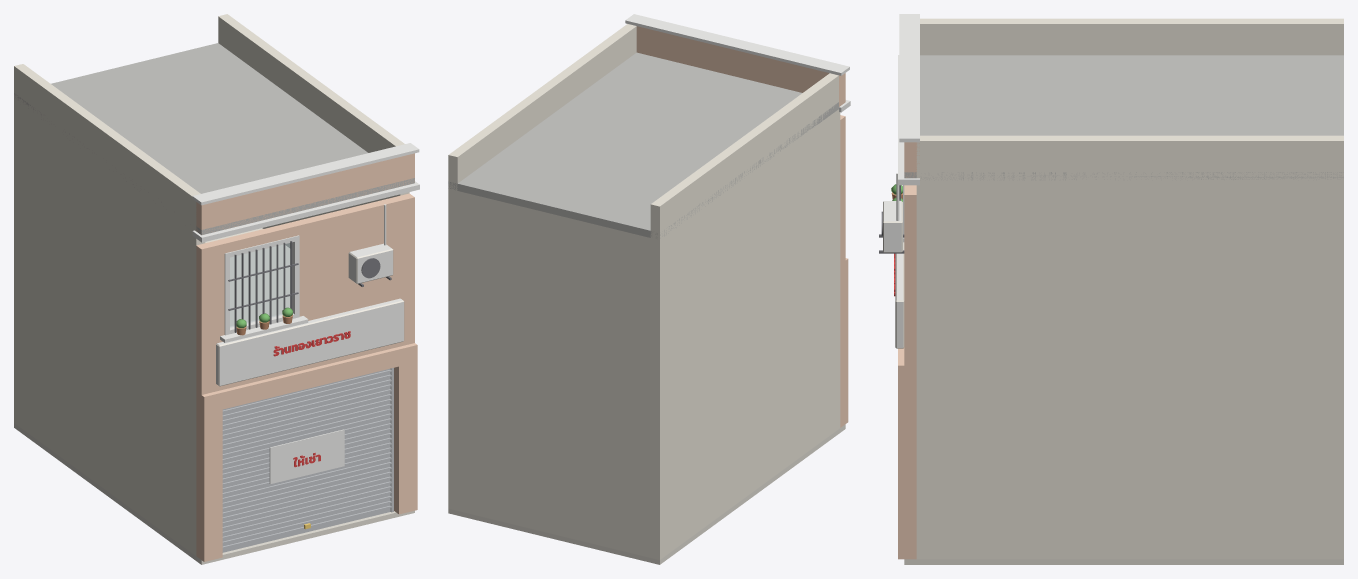
Rendered from SM_Shophouse_Closed.fbx.
The picture shows the model from 3 angles, left to right: view 1: azimuth 30°, elevation 25°; view 2: azimuth 150°, elevation 25°; view 3: azimuth 270°, elevation 25°; orthographic projection. The views are drawn at different scales.
Visible parts, largest first — view 1: SM_Shophouse_Closed; view 2: SM_Shophouse_Closed; view 3: SM_Shophouse_Closed.
Part boxes in pixels (<box>): SM_Shophouse_Closed: <box>14,14,419,564</box>; SM_Shophouse_Closed: <box>448,14,850,564</box>; SM_Shophouse_Closed: <box>879,14,1343,564</box>.
Size of the model in its own units: 4.7 by 7.51 by 7.4.
